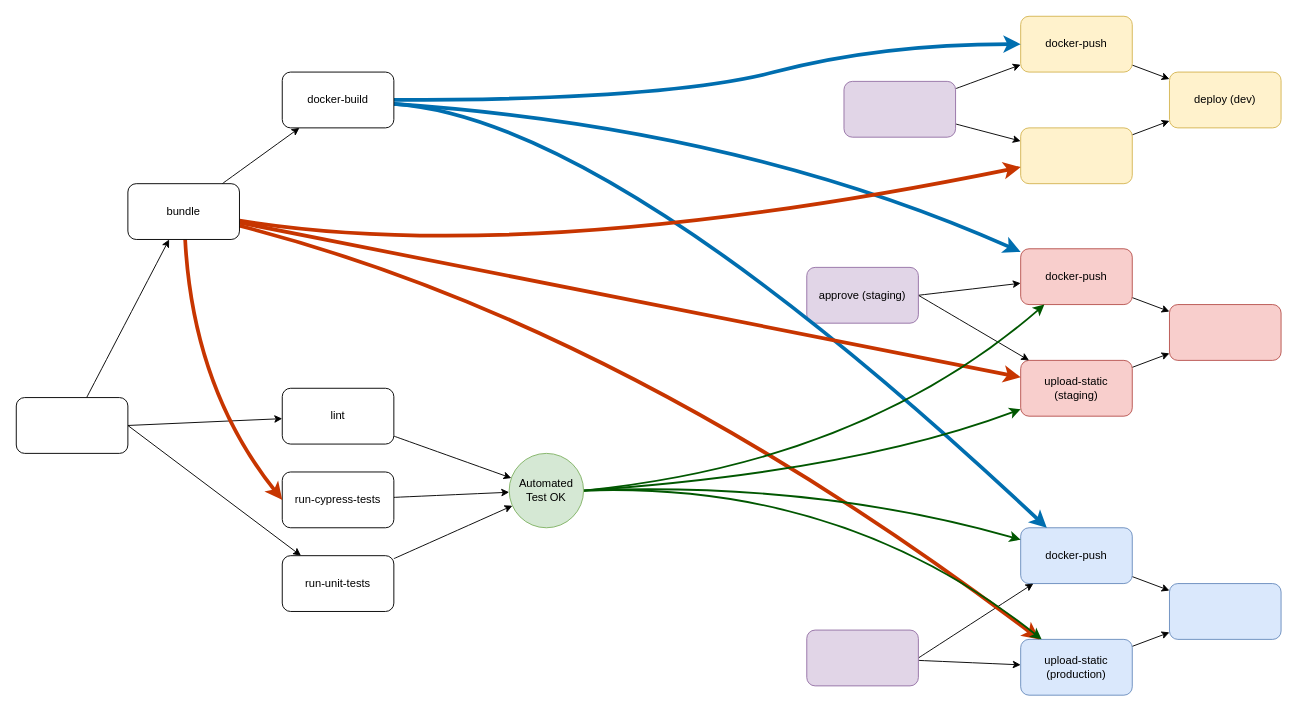
This 1297x711 diagram has some shape labels left out. The centre of each missing label's shape, as x and y in pixels:
approve (dev): (x=899, y=108)
approve (production): (x=862, y=657)
checkout: (x=71, y=425)
deploy (production): (x=1225, y=611)
deploy (staging): (x=1225, y=332)
upload-static (dev): (x=1076, y=155)
